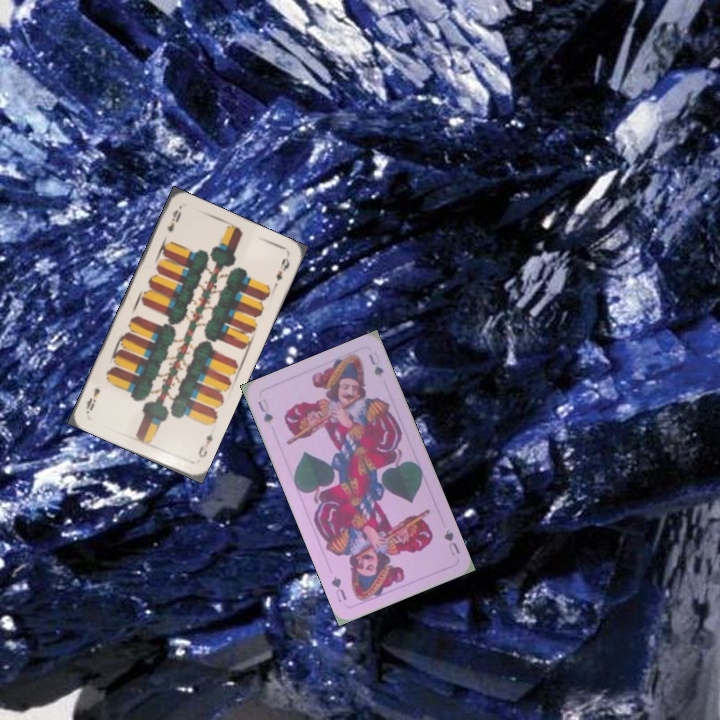E9: (162, 206, 184, 235), (194, 430, 215, 460)
GU: (440, 526, 463, 558), (254, 394, 276, 427)
